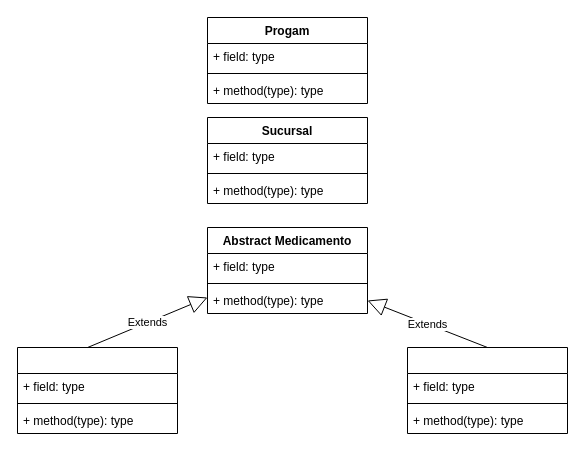
Some shapes in this 585 by 454 pixel diagram are drawn without their labels. The shapes that lost their labels are listed below. From the top down, each one's box as (x1, y1, x2, y2) in pixels, then its label:
(16, 346, 178, 434): Virus
(406, 346, 568, 434): Vacuna
